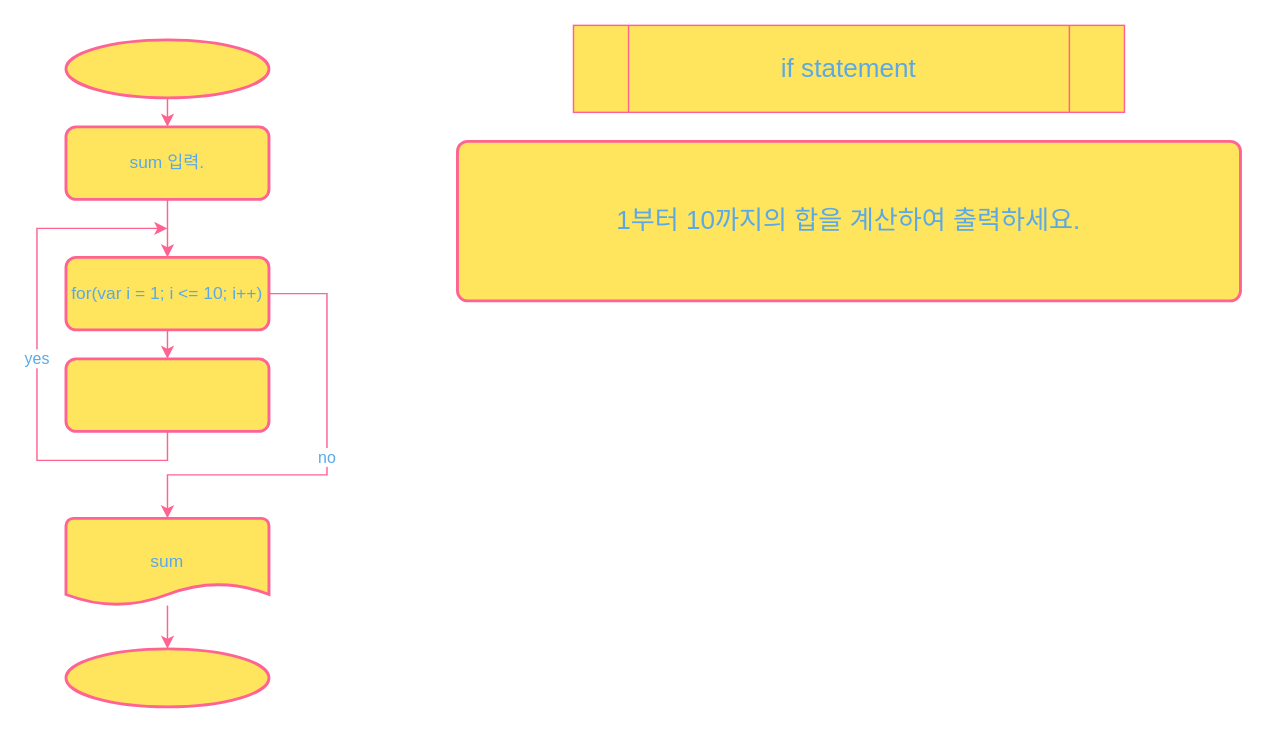
This 1267x734 diagram has some shape labels left out. Here are the shapes that lost their labels. From the top down, the centre of each, then its label:
At point 167,68: "Start".
At point 167,394: "sum += i".
At point 167,677: "End".
